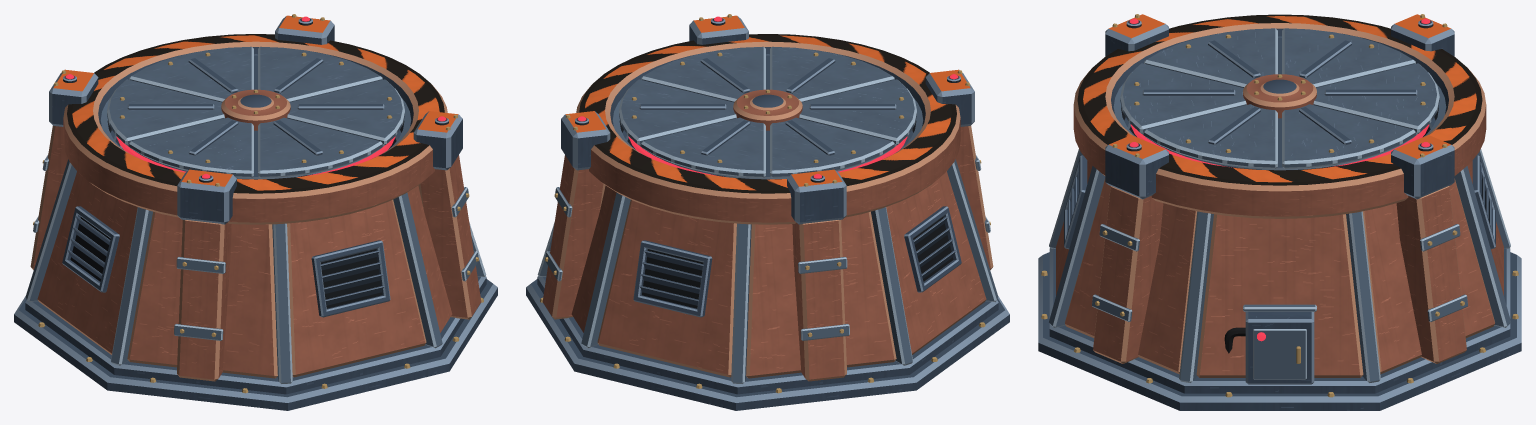
The model's file is silo.glb.
3 views of the same model, side by side, from view 1: azimuth 30°, elevation 25°; view 2: azimuth 150°, elevation 25°; view 3: azimuth 270°, elevation 25° (orthographic). The views are drawn at different scales.
Visible parts, largest first — view 1: body, hatch, glow; view 2: body, hatch, glow; view 3: body, hatch, glow.
Boxes of the visible parts, bbox=[...] form: body: bbox=[14, 14, 497, 410]; hatch: bbox=[107, 46, 404, 179]; glow: bbox=[116, 136, 395, 176]; body: bbox=[526, 14, 1009, 410]; hatch: bbox=[619, 46, 916, 179]; glow: bbox=[628, 136, 907, 176]; body: bbox=[1038, 14, 1521, 410]; hatch: bbox=[1120, 28, 1439, 170]; glow: bbox=[1130, 124, 1429, 167].
Bounding box in the file's own units: 5.23 × 2.71 × 5.2.
Materials: 2 (1 with a texture image).
